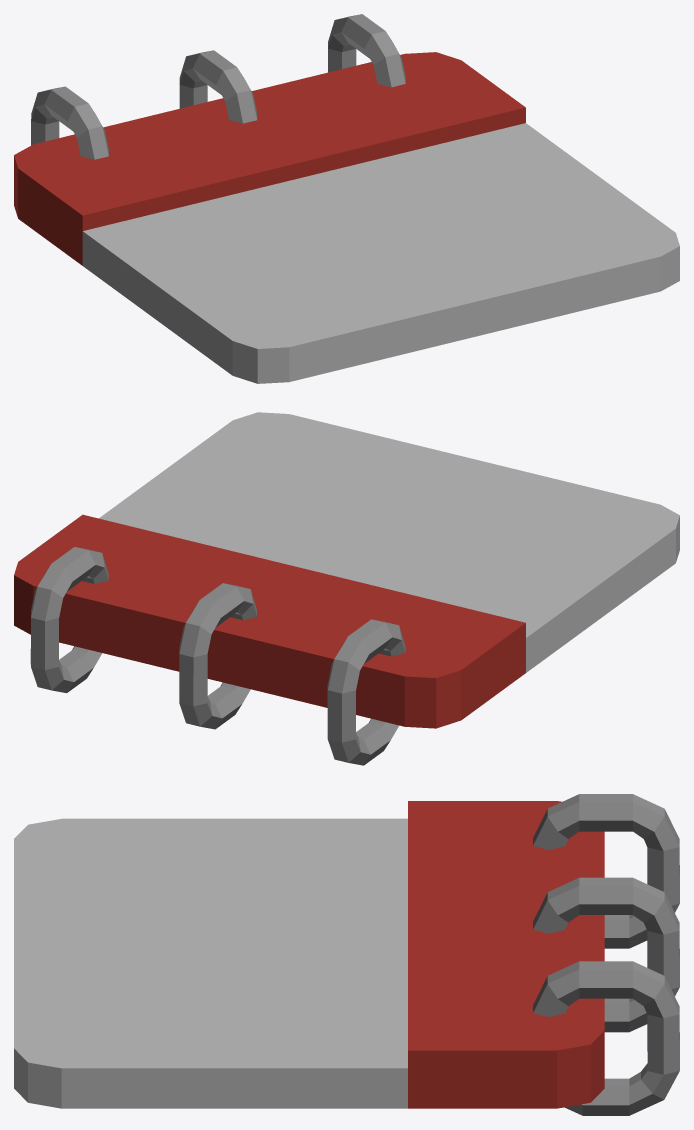
Rendered from Stone_Kalender_01a.fbx.
The picture shows the model from 3 angles, top to bottom: view 1: azimuth 30°, elevation 25°; view 2: azimuth 150°, elevation 25°; view 3: azimuth 270°, elevation 25°; orthographic projection. The views are drawn at different scales.
Parts seen in each view (by area): view 1: Kalender; view 2: Kalender; view 3: Kalender.
Boxes of the visible parts, x1,y1,x2,y2 form: Kalender: (14, 14, 679, 383); Kalender: (14, 412, 679, 765); Kalender: (14, 794, 679, 1115).
Bounding box in the file's own units: 59.71 × 16.37 × 67.32.
